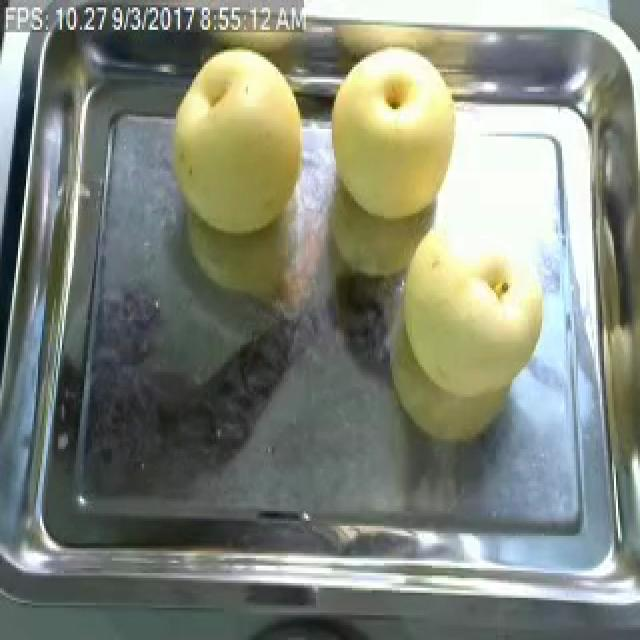Fruit: (382, 226, 556, 451), (158, 39, 318, 246), (320, 37, 474, 228)
